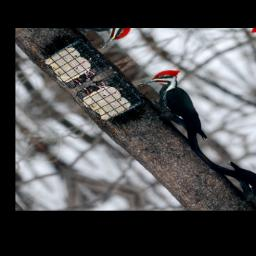Woodpecker: (115, 63, 244, 165)
